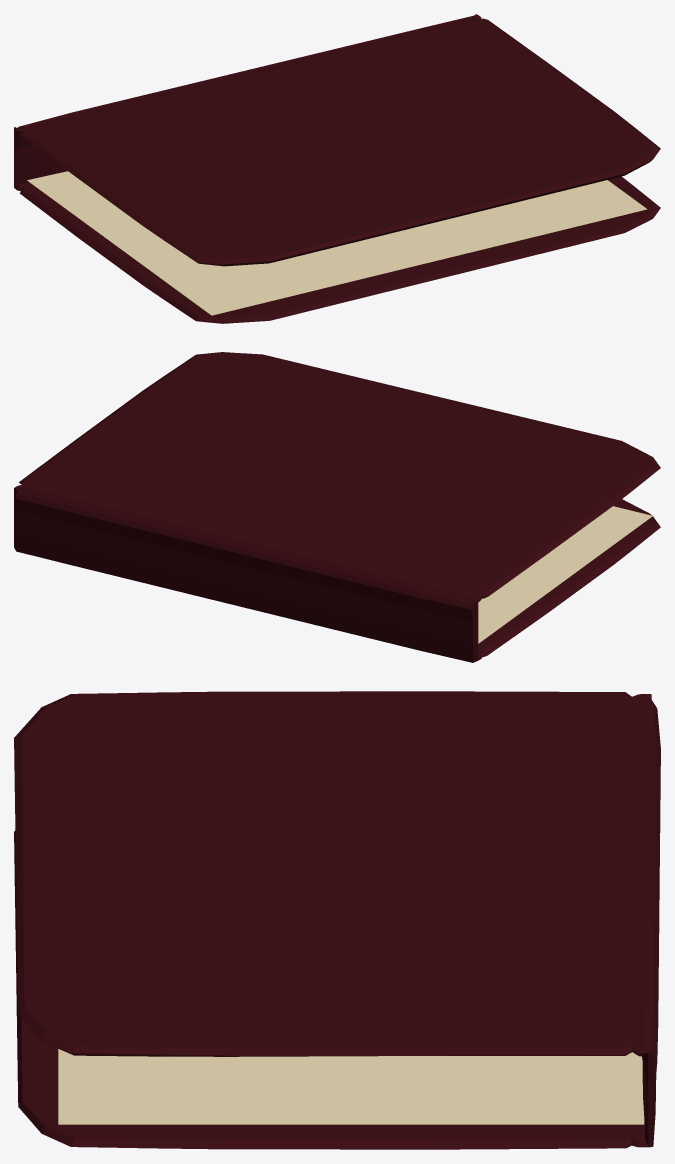
The model's file is book1.gltf.
3 views of the same model, one above another, from view 1: azimuth 30°, elevation 25°; view 2: azimuth 150°, elevation 25°; view 3: azimuth 270°, elevation 25° (orthographic). The views are drawn at different scales.
Parts seen in each view (by area): view 1: Обложка, Страницы; view 2: Обложка, Страницы; view 3: Обложка, Страницы.
Part boxes in pixels (x1,y1,x2,y2): Обложка: (14, 14, 660, 323); Страницы: (27, 171, 646, 315); Обложка: (14, 352, 660, 662); Страницы: (478, 506, 652, 643); Обложка: (14, 691, 660, 1149); Страницы: (58, 1049, 644, 1124).
Size of the model in its own units: 2.76 by 0.362 by 2.08.
